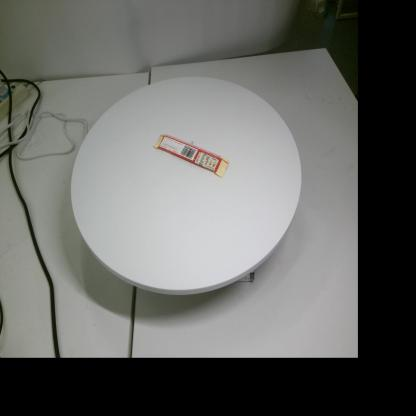Chocolate: (154, 134, 230, 178)
